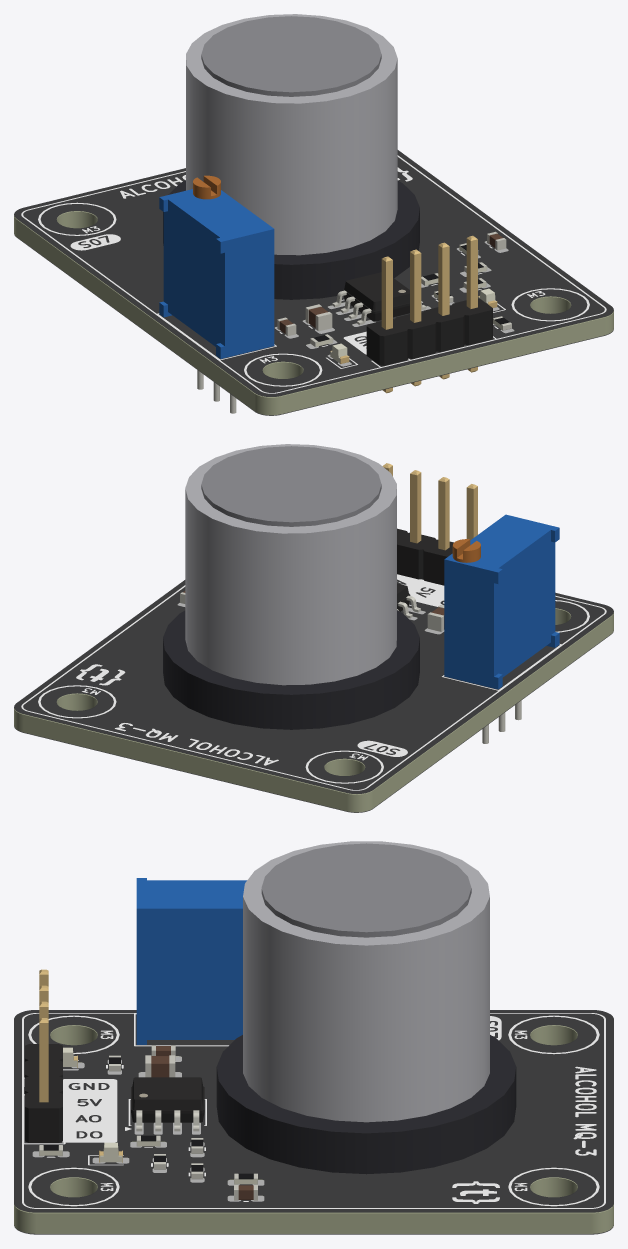
3 views of the same model, one above another, from view 1: azimuth 30°, elevation 25°; view 2: azimuth 150°, elevation 25°; view 3: azimuth 270°, elevation 25° (orthographic). The views are drawn at different scales.
Parts seen in each view (by area): view 1: =>[0:1:1:13], MQ_Gas_1, RV1, =>[0:1:1:15], MQ_Gas_2, J1, MQ_Gas_0, =>[0:1:1:11], U2, =>[0:1:1:10], =>[0:1:1:14], C3; view 2: MQ_Gas_1, =>[0:1:1:13], RV1, MQ_Gas_0, =>[0:1:1:15], MQ_Gas_2, =>[0:1:1:11], J1, =>[0:1:1:14]; view 3: =>[0:1:1:13], MQ_Gas_1, MQ_Gas_0, RV1, =>[0:1:1:15], MQ_Gas_2, =>[0:1:1:11], J1, U2, =>[0:1:1:10], C3, =>[0:1:1:14].
Part boxes in pixels (x1=…): =>[0:1:1:13]: x1=14, y1=150, x2=613, y2=396; MQ_Gas_1: x1=186, y1=14, x2=397, y2=255; RV1: x1=159, y1=175, x2=274, y2=413; =>[0:1:1:15]: x1=14, y1=211, x2=613, y2=415; MQ_Gas_2: x1=201, y1=16, x2=381, y2=96; J1: x1=366, y1=235, x2=492, y2=393; MQ_Gas_0: x1=163, y1=180, x2=419, y2=299; =>[0:1:1:11]: x1=21, y1=155, x2=606, y2=393; U2: x1=332, y1=272, x2=426, y2=325; =>[0:1:1:10]: x1=275, y1=241, x2=514, y2=366; =>[0:1:1:14]: x1=14, y1=234, x2=613, y2=415; C3: x1=305, y1=304, x2=332, y2=331; MQ_Gas_1: x1=185, y1=444, x2=396, y2=685; =>[0:1:1:13]: x1=14, y1=579, x2=613, y2=793; RV1: x1=444, y1=514, x2=559, y2=743; MQ_Gas_0: x1=163, y1=610, x2=419, y2=729; =>[0:1:1:15]: x1=14, y1=608, x2=613, y2=812; MQ_Gas_2: x1=201, y1=446, x2=381, y2=526; =>[0:1:1:11]: x1=21, y1=574, x2=606, y2=790; J1: x1=382, y1=463, x2=477, y2=585; =>[0:1:1:14]: x1=14, y1=631, x2=613, y2=812; =>[0:1:1:13]: x1=14, y1=1010, x2=613, y2=1212; MQ_Gas_1: x1=243, y1=841, x2=489, y2=1122; MQ_Gas_0: x1=216, y1=1035, x2=516, y2=1174; RV1: x1=136, y1=878, x2=246, y2=1044; =>[0:1:1:15]: x1=14, y1=1025, x2=613, y2=1233; MQ_Gas_2: x1=261, y1=843, x2=471, y2=937; =>[0:1:1:11]: x1=22, y1=1013, x2=605, y2=1208; J1: x1=25, y1=969, x2=62, y2=1142; U2: x1=131, y1=1077, x2=204, y2=1131; =>[0:1:1:10]: x1=32, y1=1056, x2=264, y2=1201; C3: x1=145, y1=1055, x2=175, y2=1077; =>[0:1:1:14]: x1=14, y1=1225, x2=613, y2=1234.
Bounding box in the file's own units: 0.032 × 0.0224 × 0.04.
